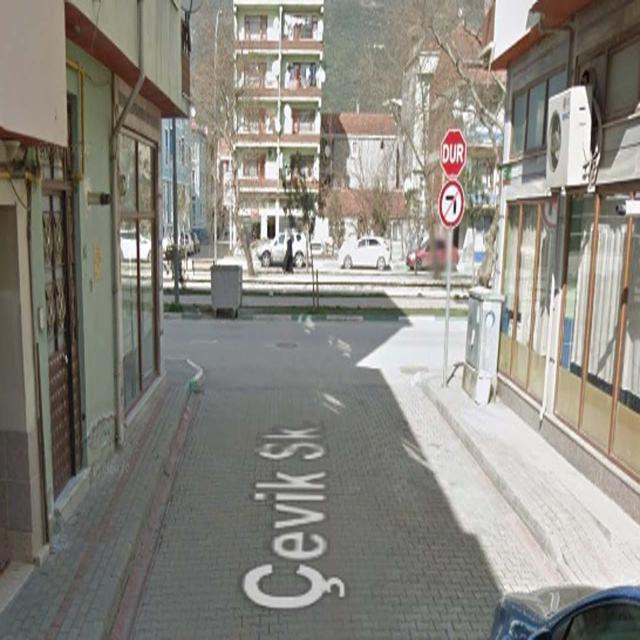dur: (439, 129, 466, 177)
soladonulmez: (438, 179, 464, 228)
